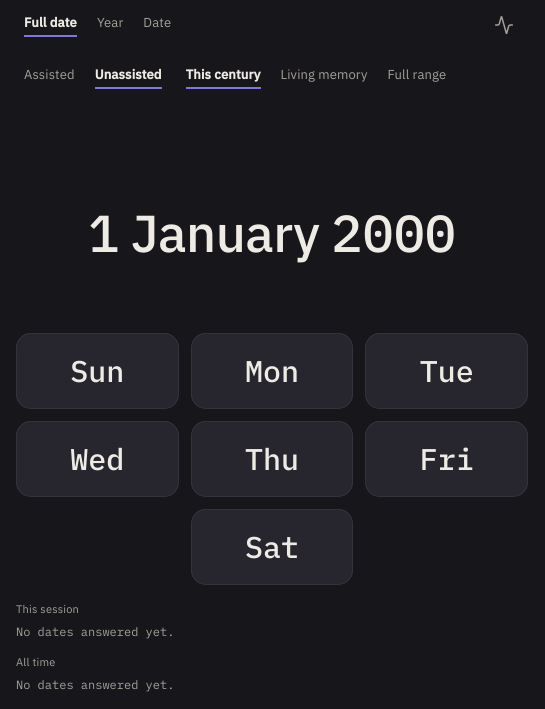
Test case: Weekday trainer › hides the year code by default and shows it in assisted mode
Check: the text "0 (XX00)" is not shown
Click the radio button labelled "Assisted" at (49, 77), box 16,53 -> 83,101
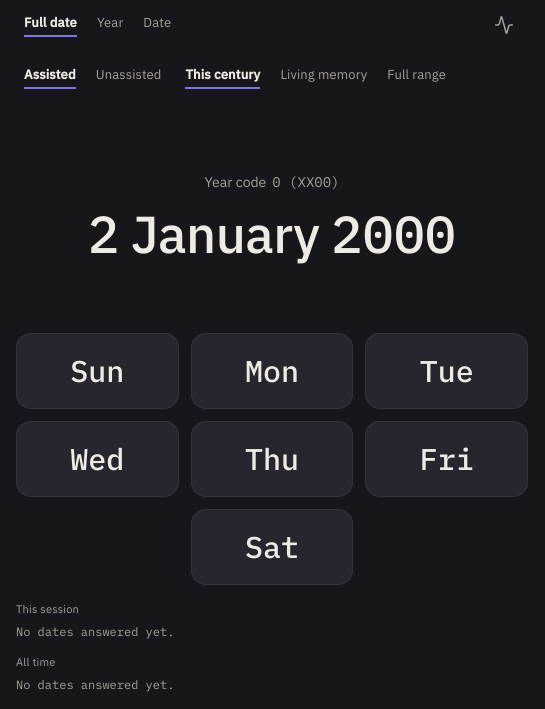
Check: the text "0 (XX00)" is shown, box 272,175 -> 340,189
